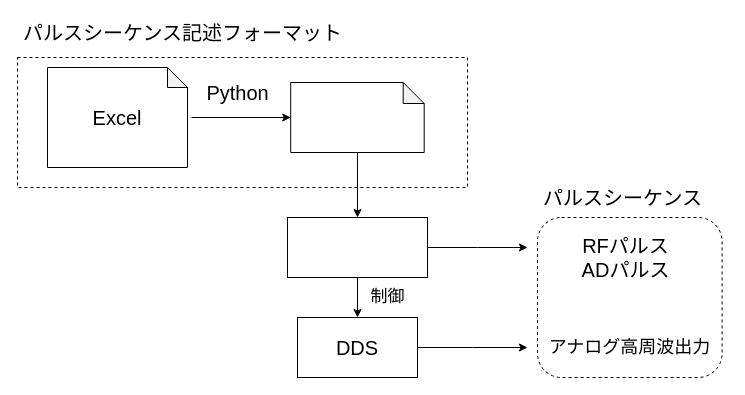
The diagram is 745 pixels wide and 395 high, and some of its shapes have lost their labels. Each missing label, with the centre of its shape:
"CSV" belongs at point 357,117.
"FPGA" belongs at point 357,247.
